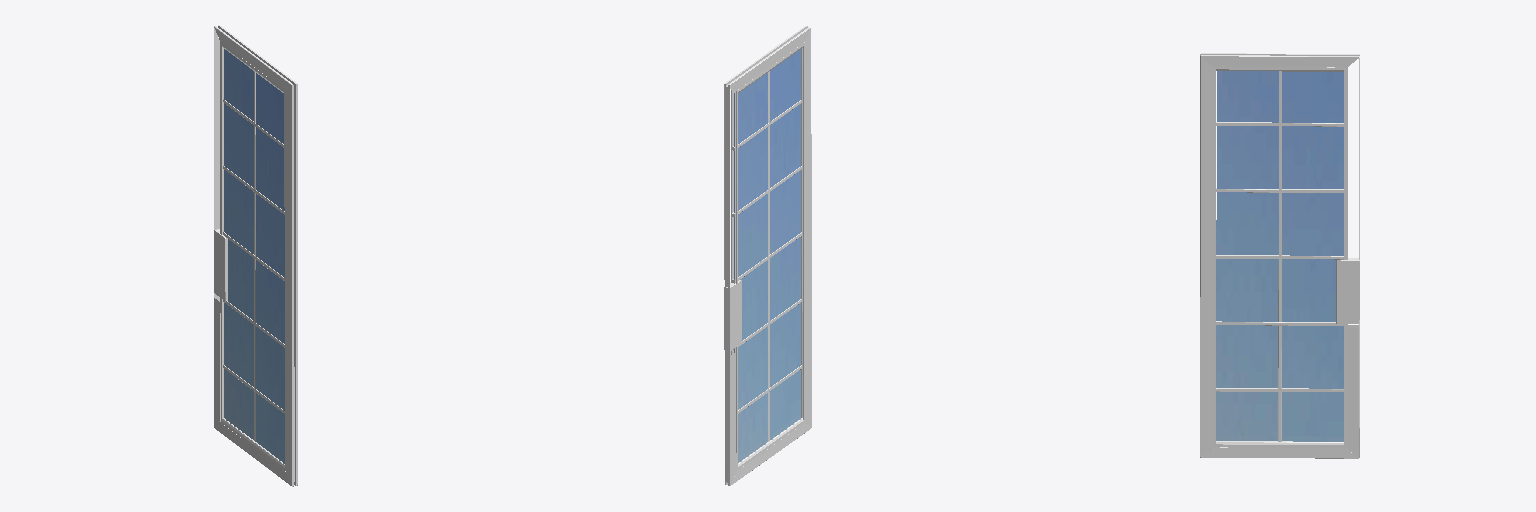
The picture shows the model from 3 angles: view 1: azimuth 30°, elevation 25°; view 2: azimuth 150°, elevation 25°; view 3: azimuth 270°, elevation 25°; orthographic projection.
Parts seen in each view (by area): view 1: Box2657; view 2: Box2657; view 3: Box2657.
Part boxes in pixels (x1,y1,x2,y2): Box2657: (214, 25, 297, 486); Box2657: (724, 26, 811, 485); Box2657: (1200, 53, 1359, 458).
Bounding box in the file's own units: 0.0186 × 0.9162 × 0.3303.
Materials: 2 (2 with a texture image).